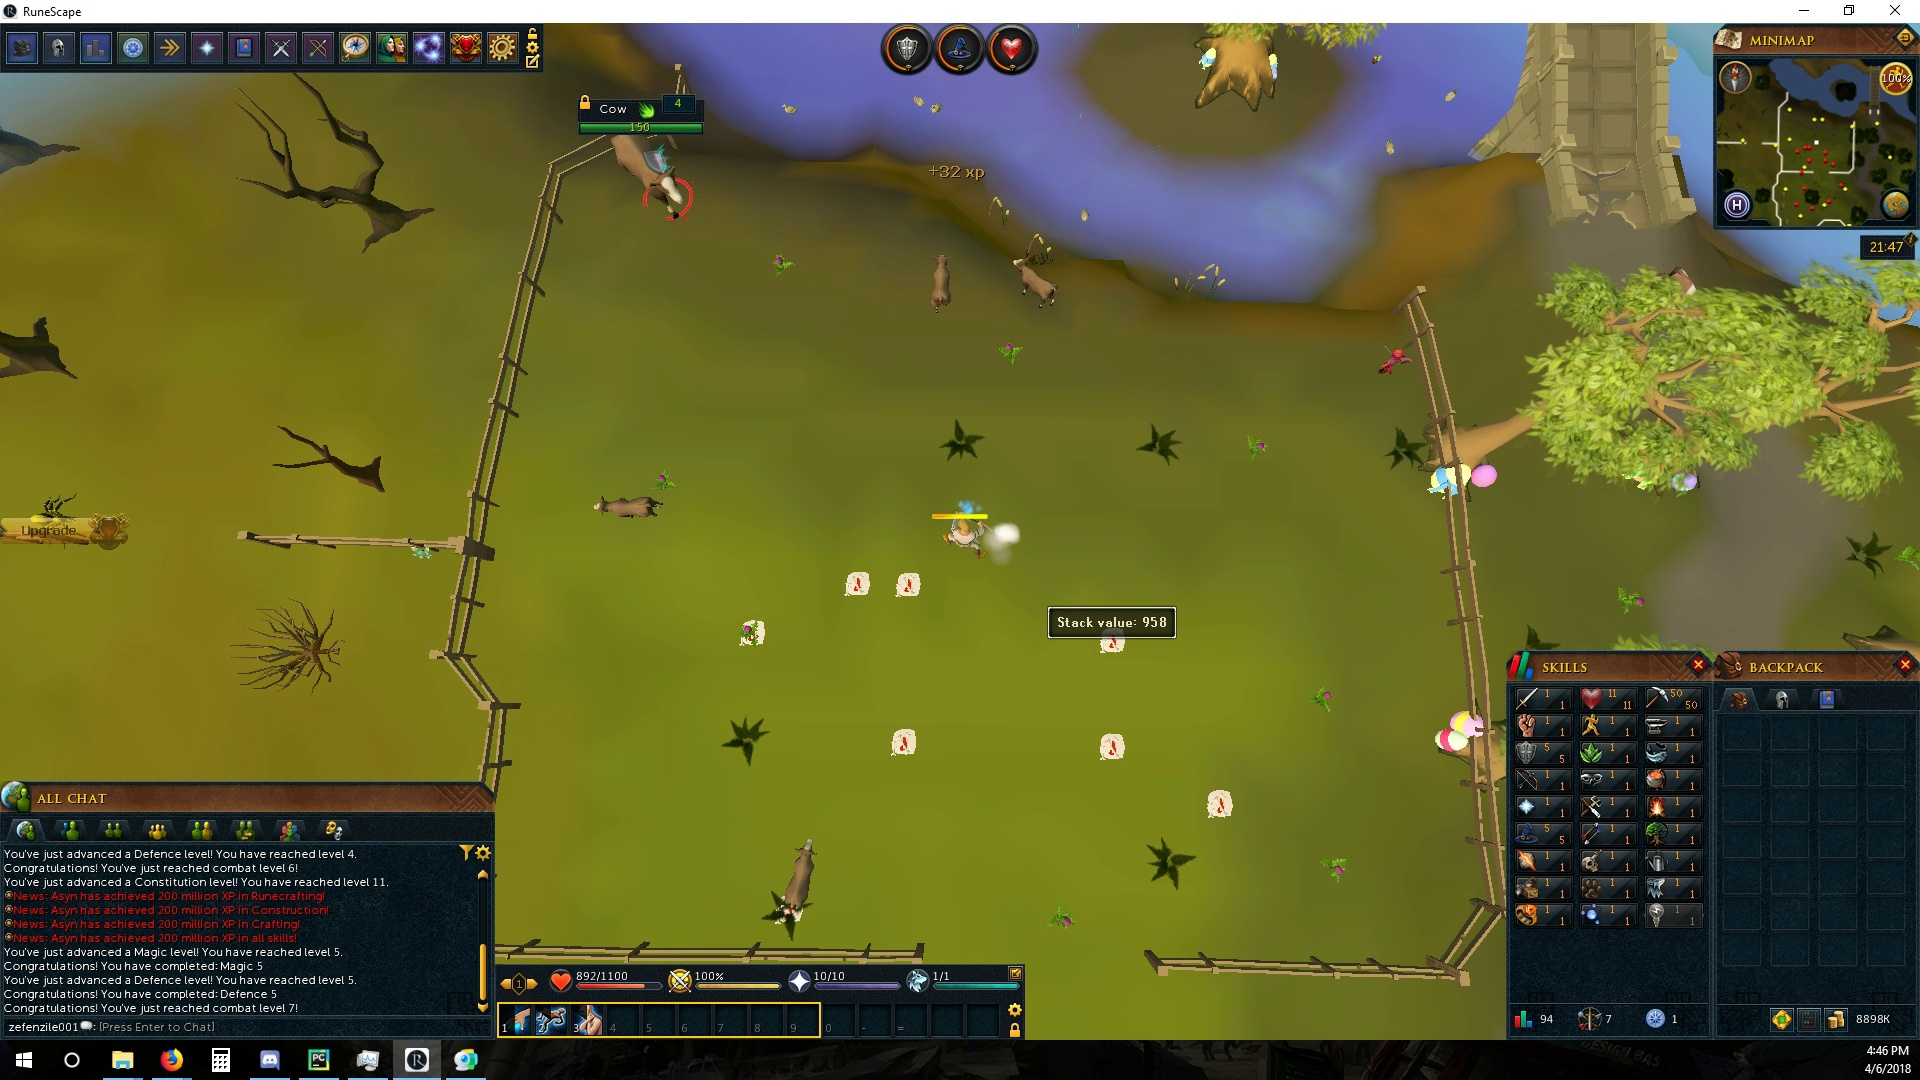calf: (781, 833, 818, 913), (1010, 253, 1060, 310), (589, 491, 670, 521), (928, 251, 952, 307)
cow: (603, 136, 688, 223)
cow_drop: (885, 727, 919, 760), (735, 616, 766, 647), (1203, 787, 1234, 819), (1100, 732, 1129, 764), (895, 568, 923, 600), (844, 568, 870, 597), (1097, 633, 1134, 653)
